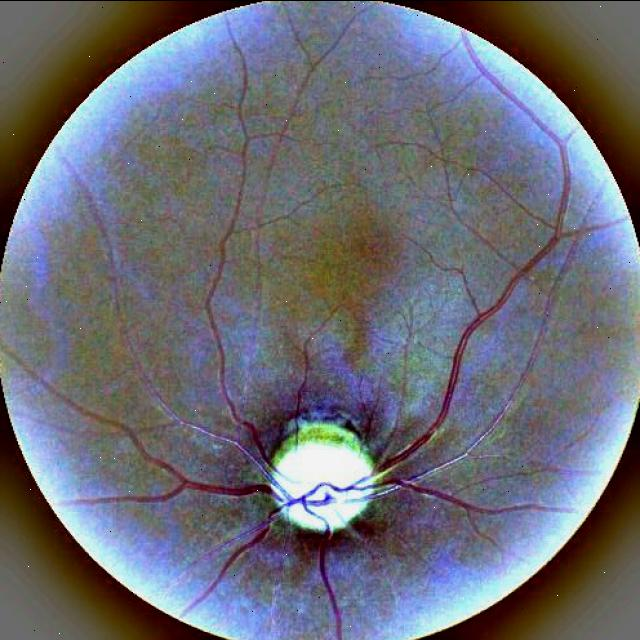Nerves: (379, 275, 519, 470), (179, 477, 270, 495), (520, 239, 556, 274), (135, 492, 178, 501)
Optic Disk: (268, 409, 408, 534)
